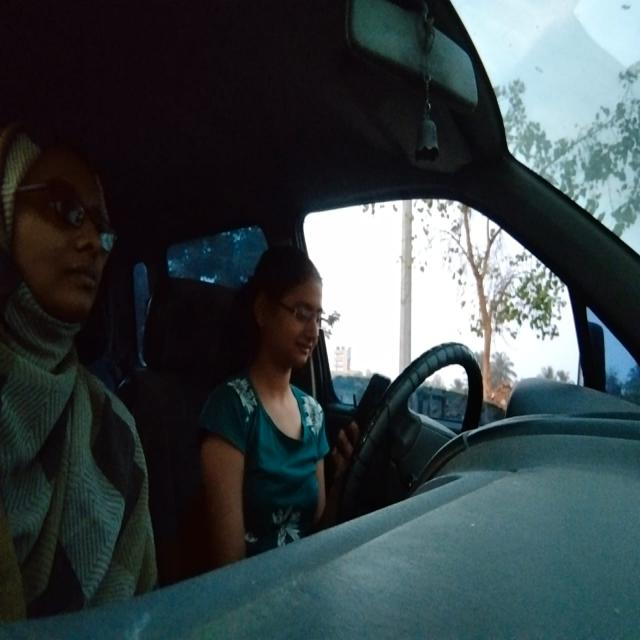mobile: (345, 366, 388, 447)
person: (0, 105, 111, 314), (248, 251, 328, 373)
